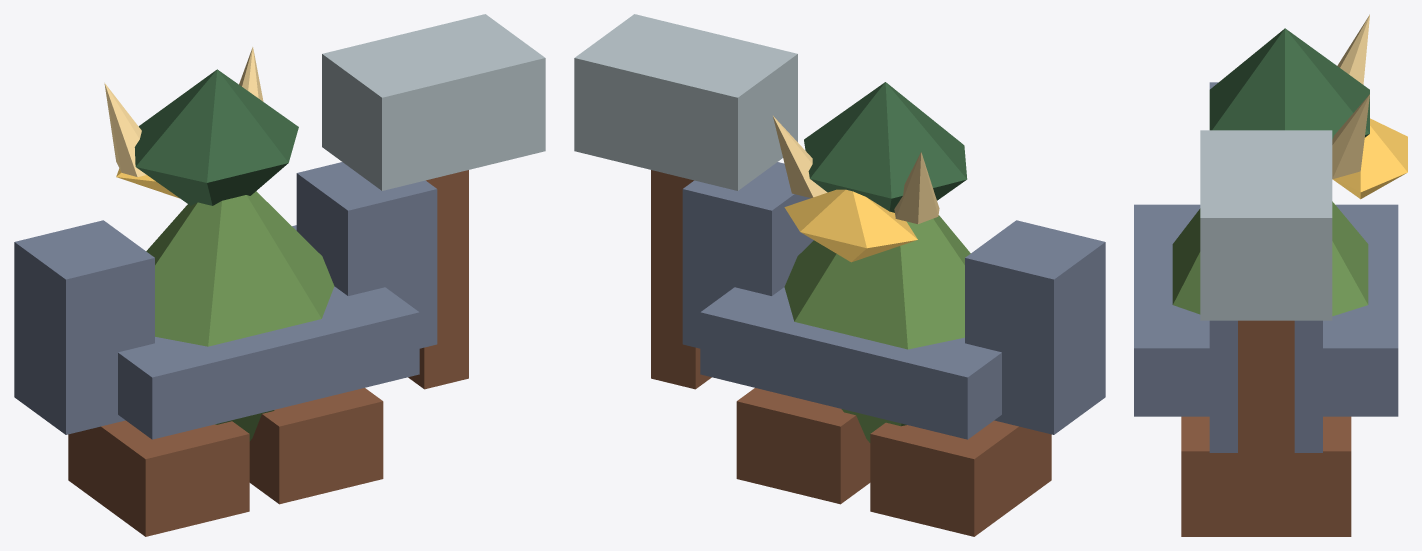
File: gnasty.obj
3 views of the same model, side by side, from view 1: azimuth 30°, elevation 25°; view 2: azimuth 150°, elevation 25°; view 3: azimuth 270°, elevation 25° (orthographic). The views are drawn at different scales.
Visible parts, largest first — view 1: gnasty; view 2: gnasty; view 3: gnasty.
Boxes of the visible parts, left/top/right/bottom form: gnasty: left=14, top=14, right=545, bottom=536; gnasty: left=574, top=14, right=1105, bottom=536; gnasty: left=1134, top=14, right=1407, bottom=536.
Bounding box in the file's own units: 64 × 52 × 29.
